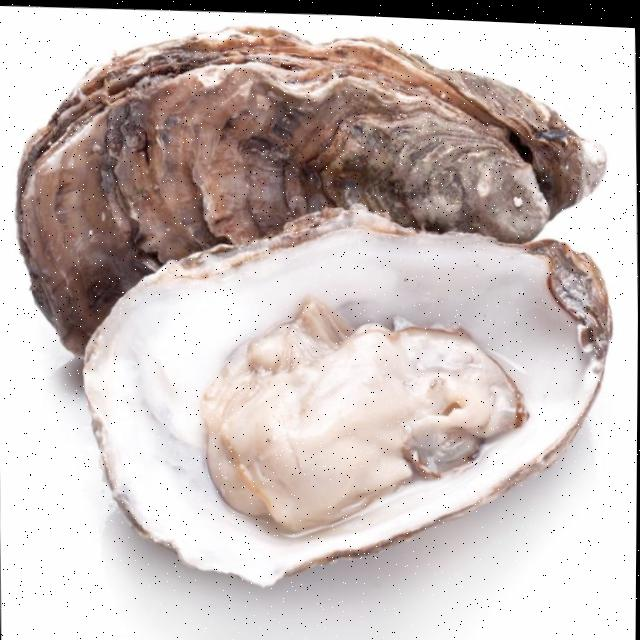Oyster-Indeterminate: (14, 26, 608, 359)
Oyster-Open: (83, 209, 613, 589)
